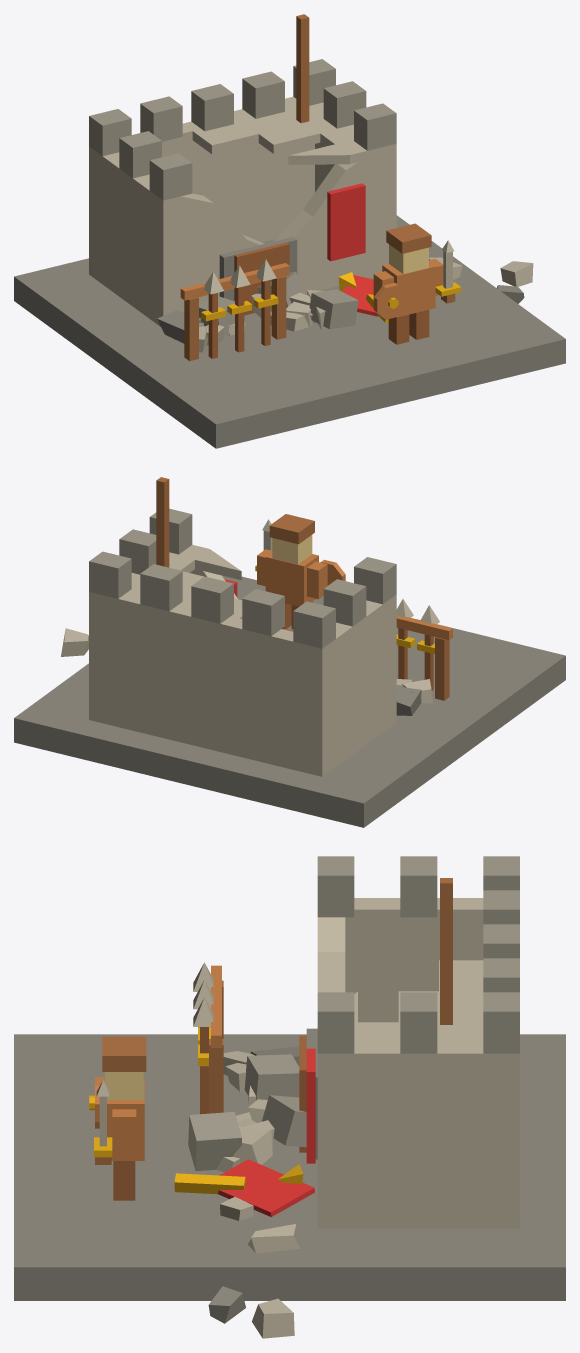
Rendered from barracks_t1_v2_dmg1.glb.
3 renders of one model, top to bottom at view 1: azimuth 30°, elevation 25°; view 2: azimuth 150°, elevation 25°; view 3: azimuth 270°, elevation 25°, orthographic. The views are drawn at different scales.
Parts seen in each view (by area): view 1: barracks_t1_v2_dmg1; view 2: barracks_t1_v2_dmg1; view 3: barracks_t1_v2_dmg1.
Boxes of the visible parts, left/top/right/bottom form: barracks_t1_v2_dmg1: left=14, top=14, right=565, bottom=448; barracks_t1_v2_dmg1: left=14, top=477, right=565, bottom=827; barracks_t1_v2_dmg1: left=14, top=856, right=565, bottom=1338.
Bounding box in the file's own units: 0.7009 × 0.42 × 0.6.
1 material, 1 textured.
